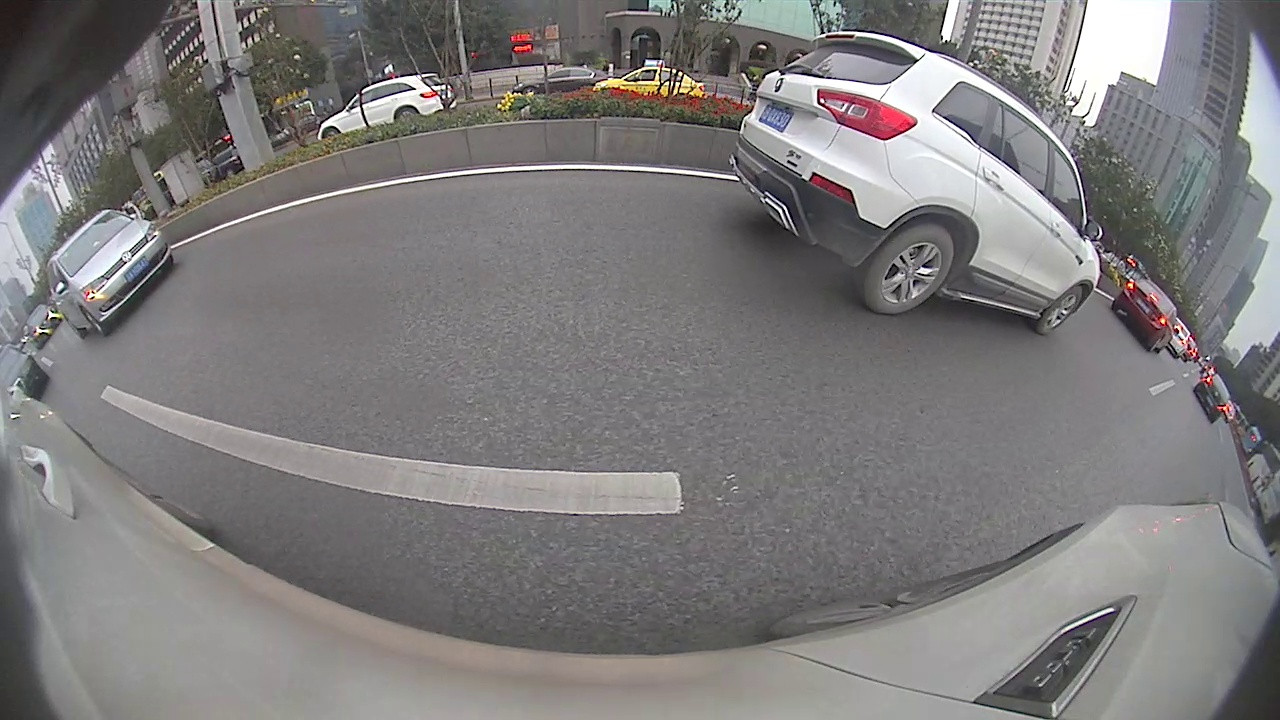car: (728, 31, 1103, 338), (42, 206, 175, 338), (318, 73, 459, 138), (1111, 275, 1181, 355), (592, 56, 708, 98), (1, 346, 48, 408), (1193, 372, 1232, 423)
front: (1036, 285, 1084, 336), (322, 130, 340, 147)
rear: (864, 223, 954, 314), (396, 109, 419, 127)
